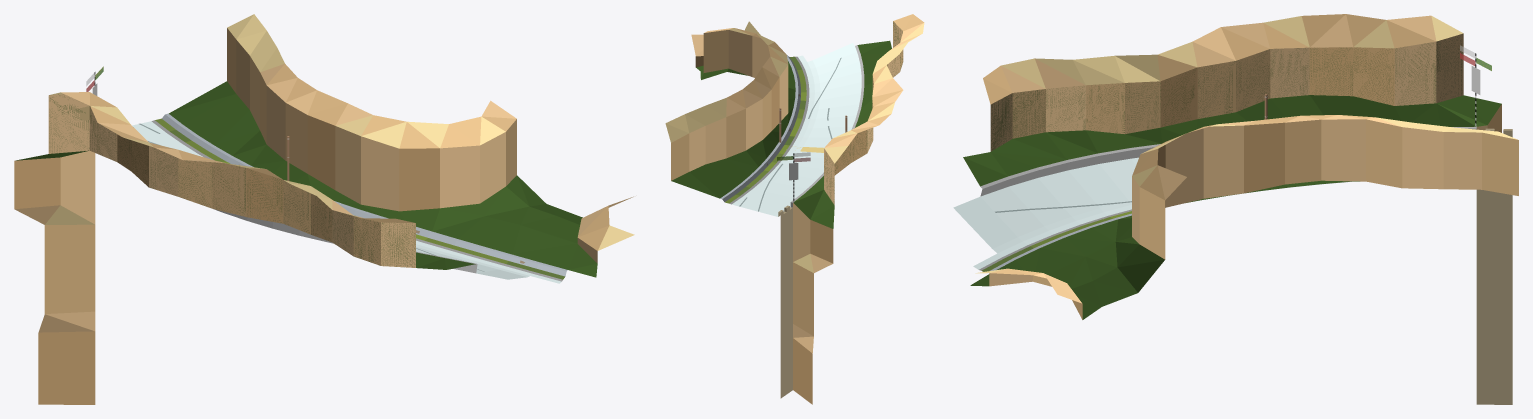
3 renders of one model, left to right at view 1: azimuth 30°, elevation 25°; view 2: azimuth 150°, elevation 25°; view 3: azimuth 270°, elevation 25°, orthographic. The views are drawn at different scales.
Visible parts, largest first — view 1: O395B2; view 2: O395B2; view 3: O395B2.
Part boxes in pixels (x1,y1,x2,y2): O395B2: (14,14,634,404); O395B2: (665,14,924,404); O395B2: (953,14,1518,404).
Size of the model in its own units: 122 by 97 by 138.
